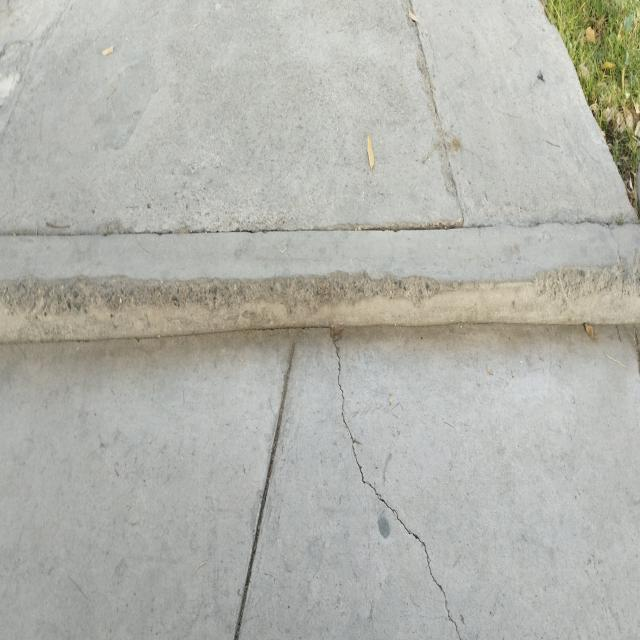bump: (0, 220, 640, 372)
